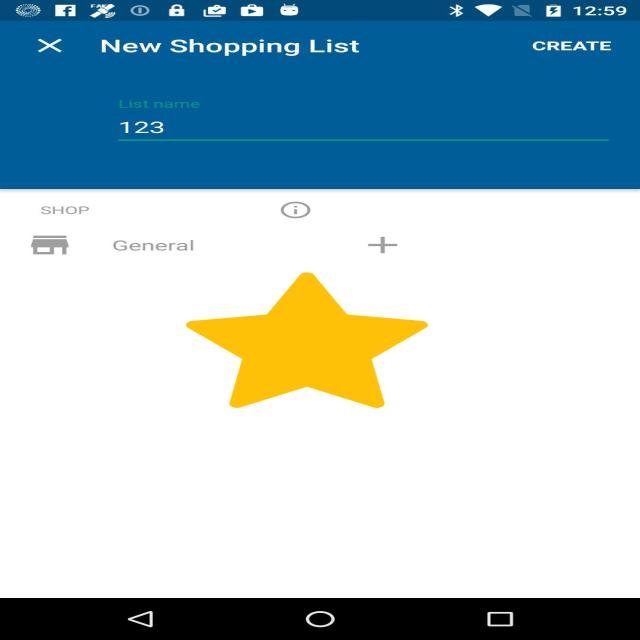forced continuity: (186, 272, 428, 408)
